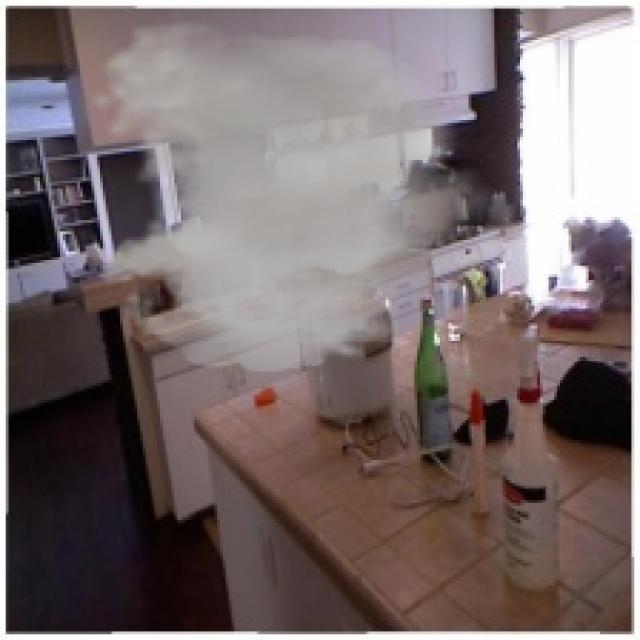smoke: (89, 20, 512, 371)
